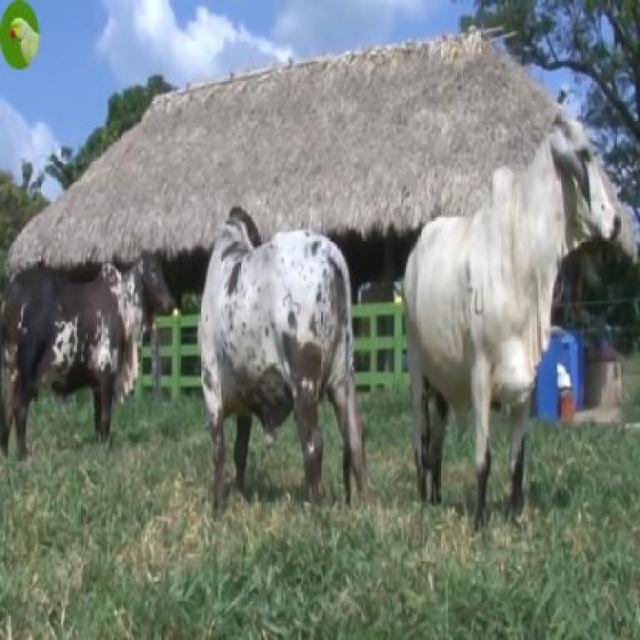Cow: (403, 109, 620, 534), (197, 205, 368, 520), (0, 252, 175, 466)
